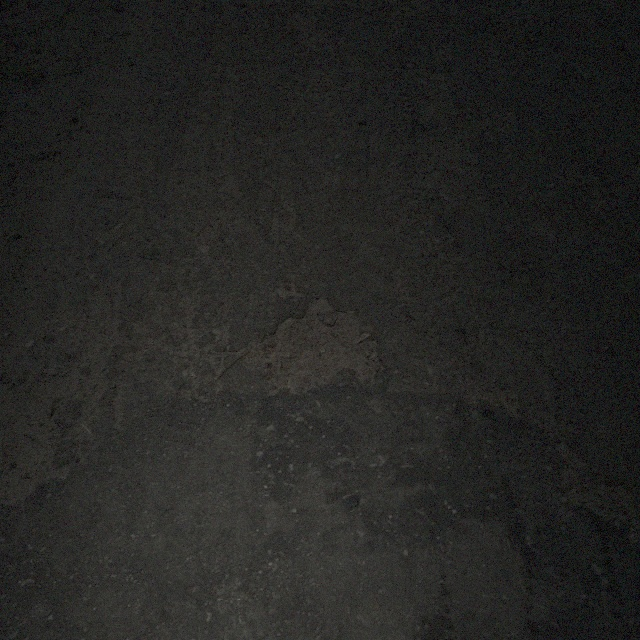pothole: (257, 290, 386, 393), (566, 480, 639, 524)
